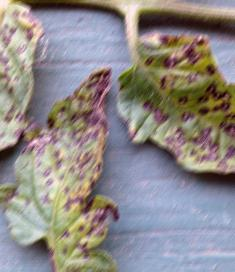Tomato Septoria leaf spot: (5, 56, 122, 272), (123, 33, 235, 188), (0, 0, 47, 199)
